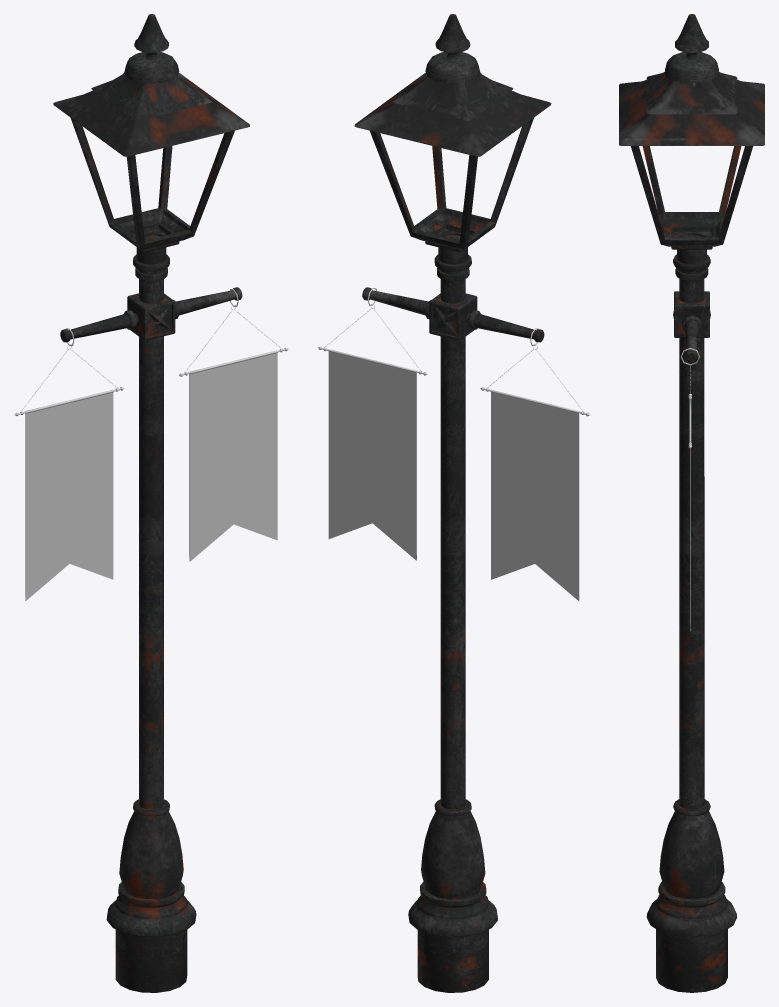
File: lampara.obj
3 views of the same model, side by side, from view 1: azimuth 30°, elevation 25°; view 2: azimuth 150°, elevation 25°; view 3: azimuth 270°, elevation 25° (orthographic).
Parts seen in each view (by area): view 1: g_Lamp_Post, Banner_02, Banner_01; view 2: g_Lamp_Post, Banner_01, Banner_02; view 3: g_Lamp_Post, Banner_02.
Part boxes in pixels (x1=…): g_Lamp_Post: x1=53, y1=14, x2=249, y2=992; Banner_02: x1=179, y1=289, x2=288, y2=561; Banner_01: x1=14, y1=328, x2=124, y2=601; g_Lamp_Post: x1=354, y1=14, x2=551, y2=992; Banner_01: x1=480, y1=328, x2=590, y2=600; Banner_02: x1=318, y1=288, x2=427, y2=560; g_Lamp_Post: x1=619, y1=14, x2=764, y2=992; Banner_02: x1=680, y1=348, x2=699, y2=631.
Bounding box in the file's own units: 5.21 × 17.49 × 2.4.
